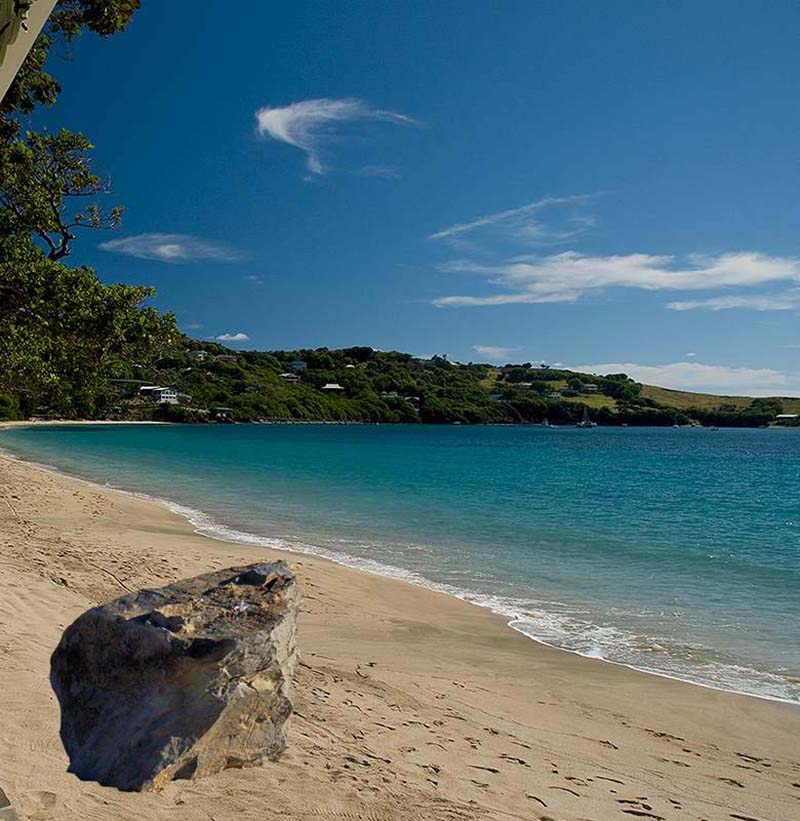Rocks: (47, 546, 304, 797)
